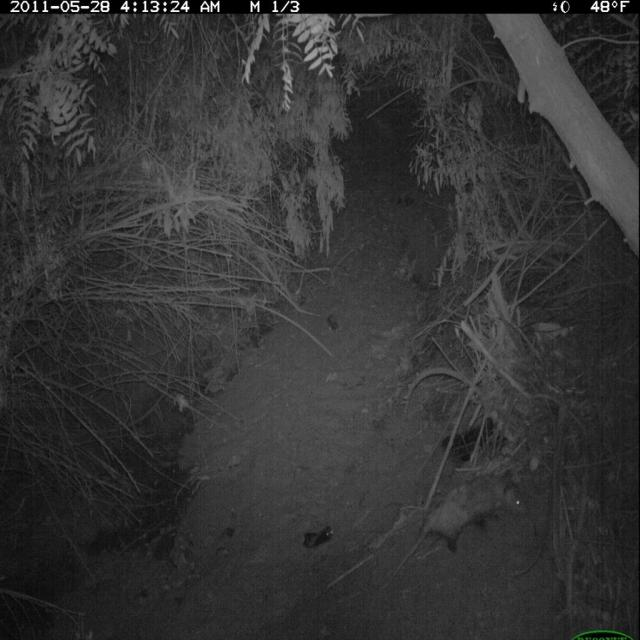opossum: (374, 460, 533, 597)
